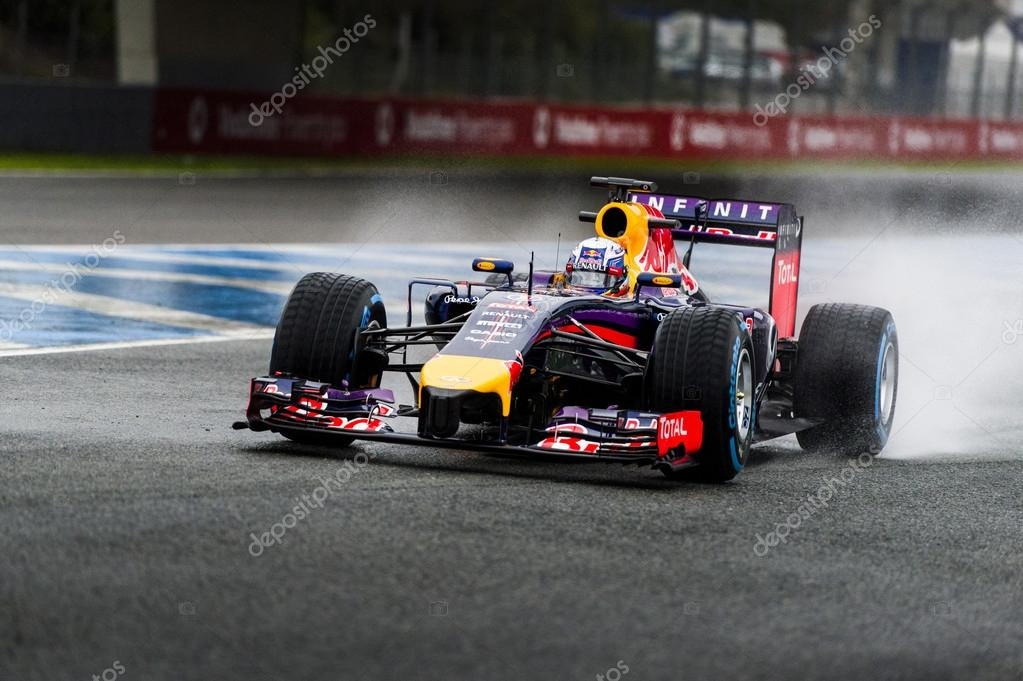Formule 1: (265, 187, 896, 476)
